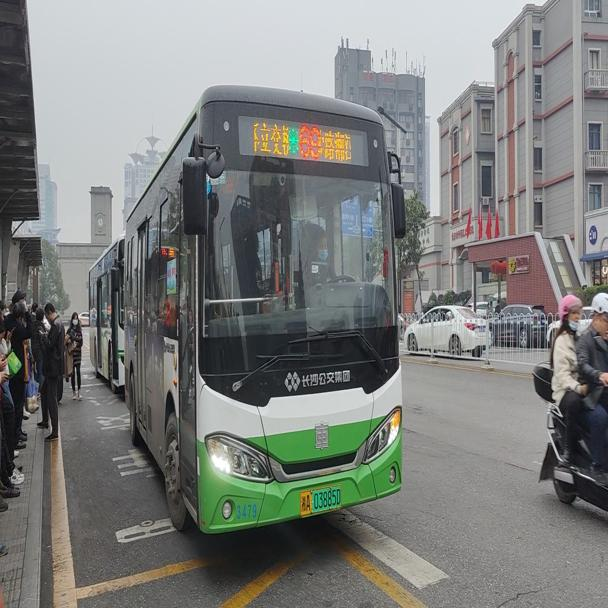bus: (123, 81, 406, 537), (88, 238, 124, 394)
screen: (296, 118, 322, 159)
